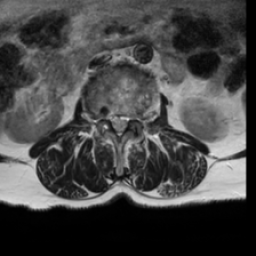CCS_normal: (115, 107, 122, 143)
LFS_stenosis: (130, 110, 139, 130)
LLS_normal: (122, 108, 130, 134)
RFS_severe_stenosis: (100, 106, 107, 130)
RLS_stenosis: (107, 108, 115, 130)
